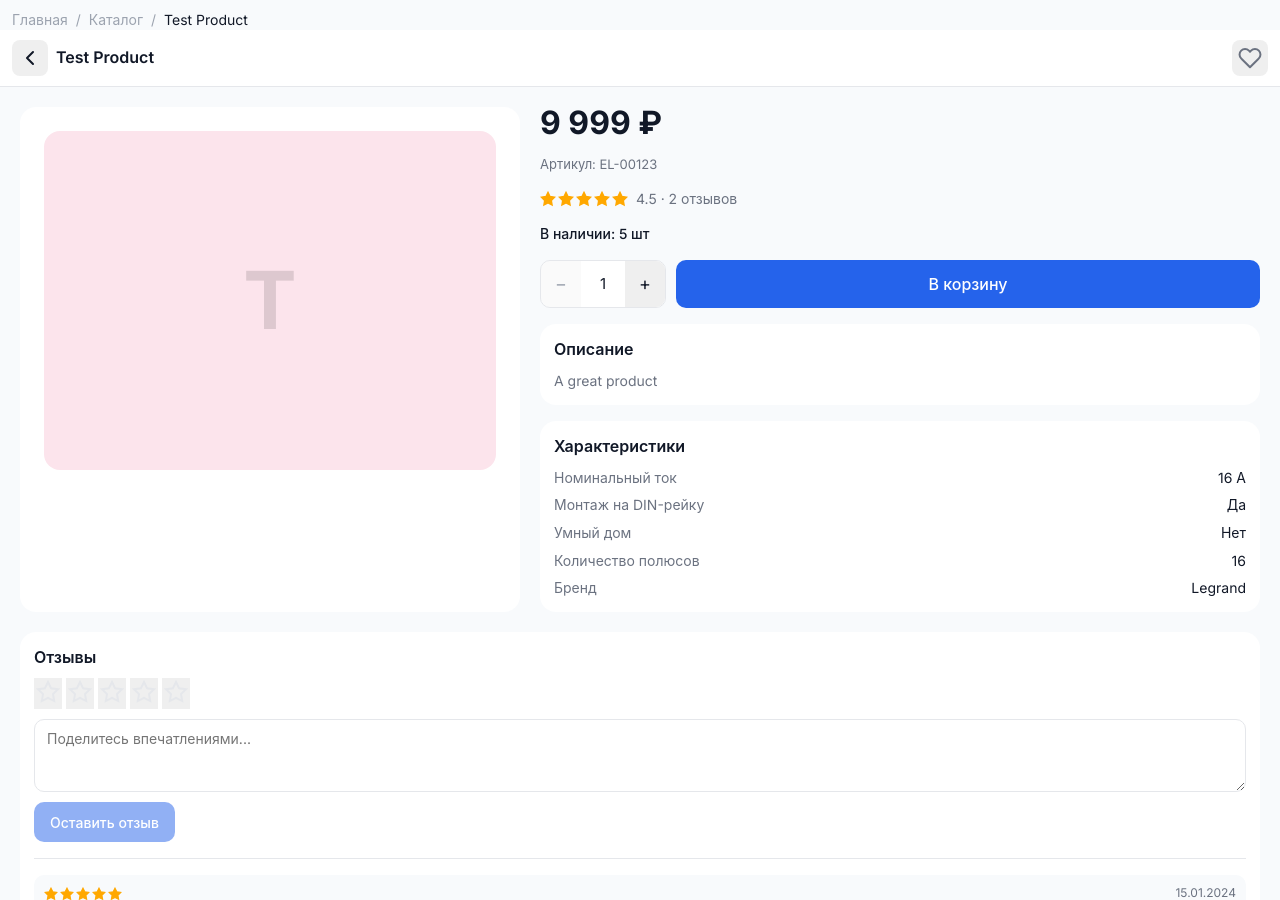
ProductDetail.vue — состояние кнопки корзины › после добавления кнопка показывает «В корзине · N» и класс --in-cart
Click the button with test id "pdp-add-to-cart": (968, 284) [676,260,1260,308]
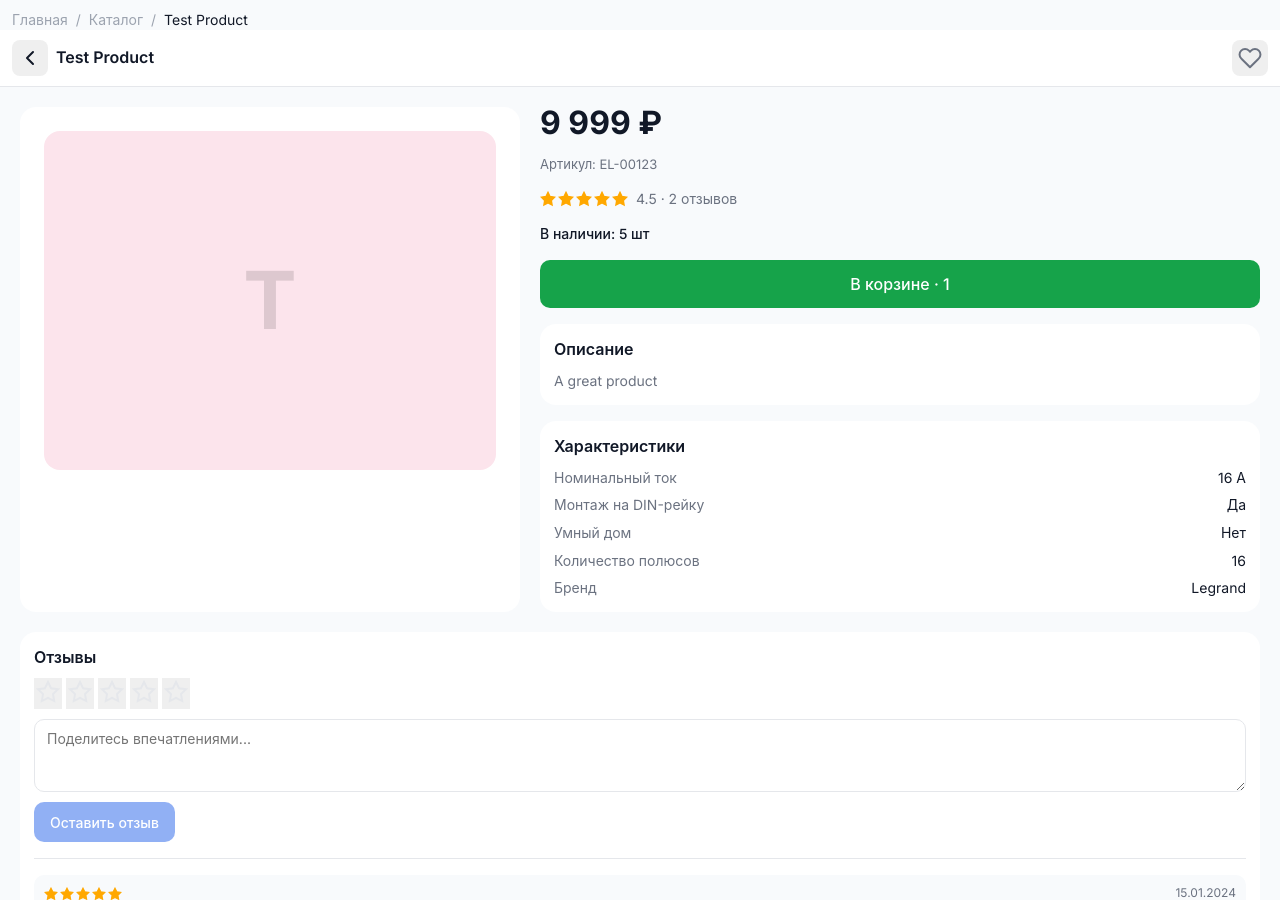
expect the button with test id "pdp-add-to-cart" reads "В корзине · 1": met, box [540,260,1260,308]
